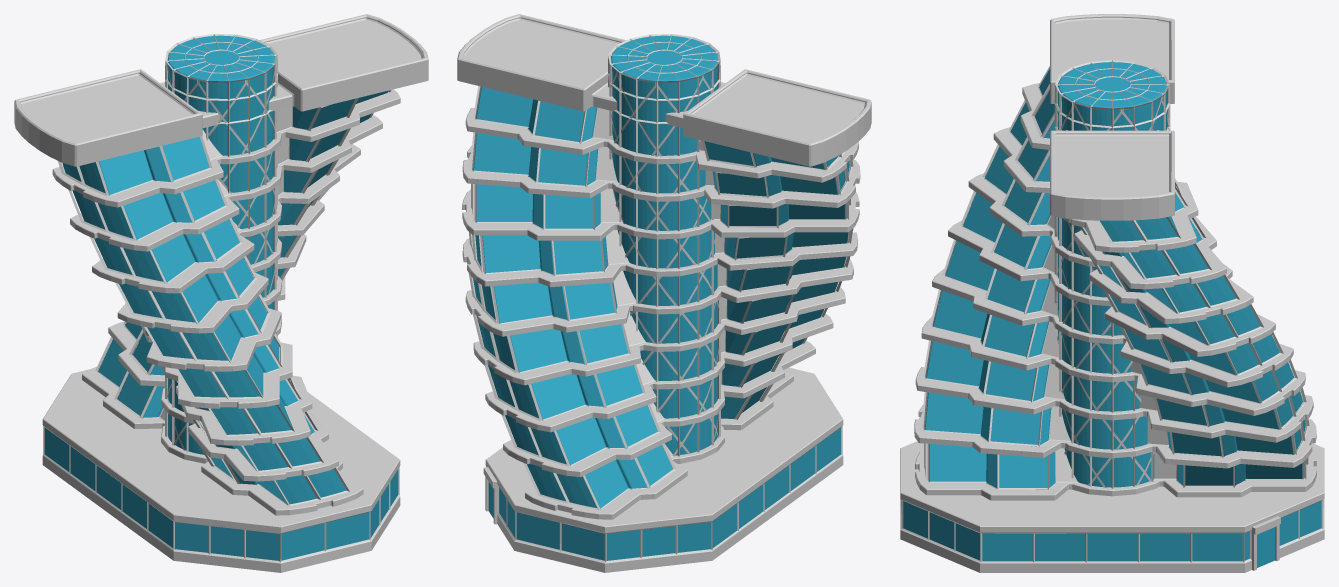
File: Helix Building 1.fbx
3 renders of one model, left to right at view 1: azimuth 30°, elevation 25°; view 2: azimuth 150°, elevation 25°; view 3: azimuth 270°, elevation 25°, orthographic.
Visible parts, largest first — view 1: base.002; view 2: base.002; view 3: base.002.
Boxes of the visible parts, x1,y1,x2,y2 form: base.002: (14,14,428,572); base.002: (457,14,871,572); base.002: (900,14,1324,572).
Bounding box in the file's own units: 679 × 741 × 658.
